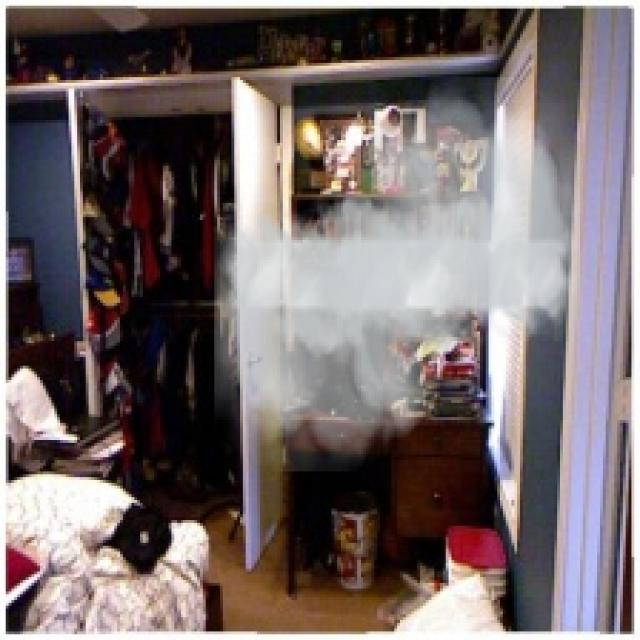smoke: (214, 77, 580, 472)
